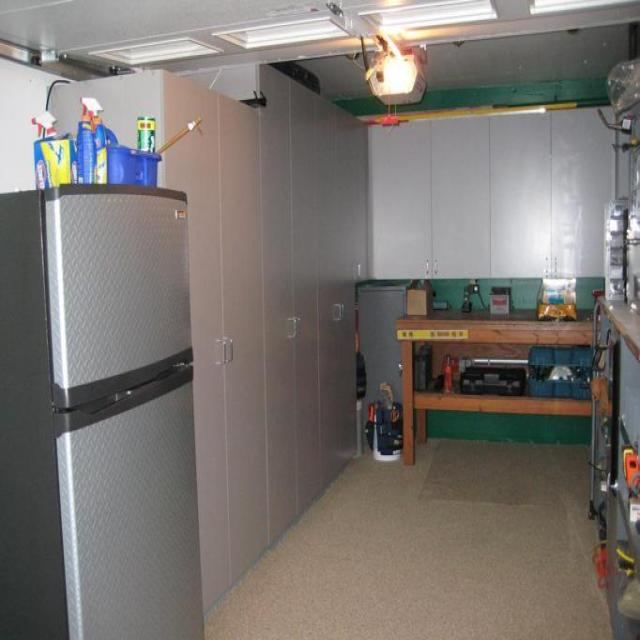cupboard: (490, 105, 615, 279), (367, 112, 490, 280)
indoor-plant: (1, 1, 637, 638)
pots: (106, 142, 161, 186)
table: (394, 306, 600, 464)
